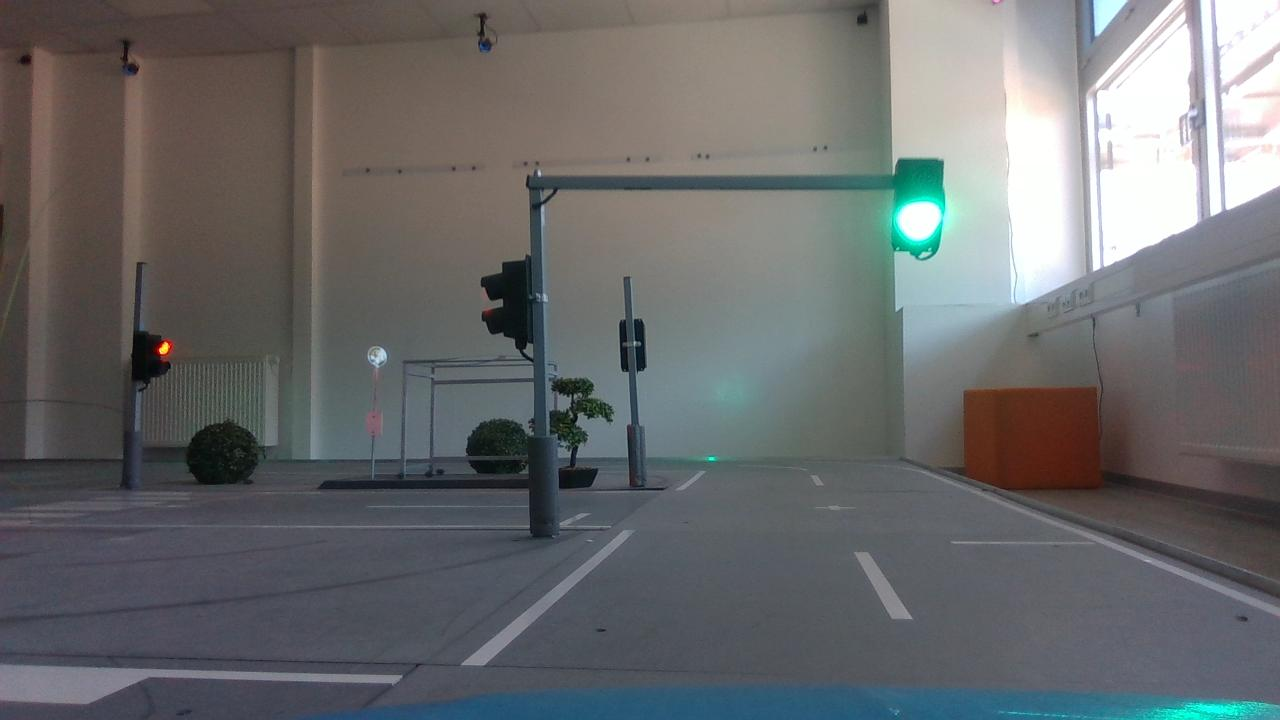traffic_light_green: (868, 147, 964, 277)
